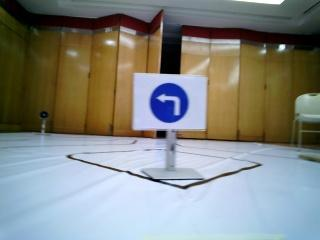left: (139, 76, 204, 127)
